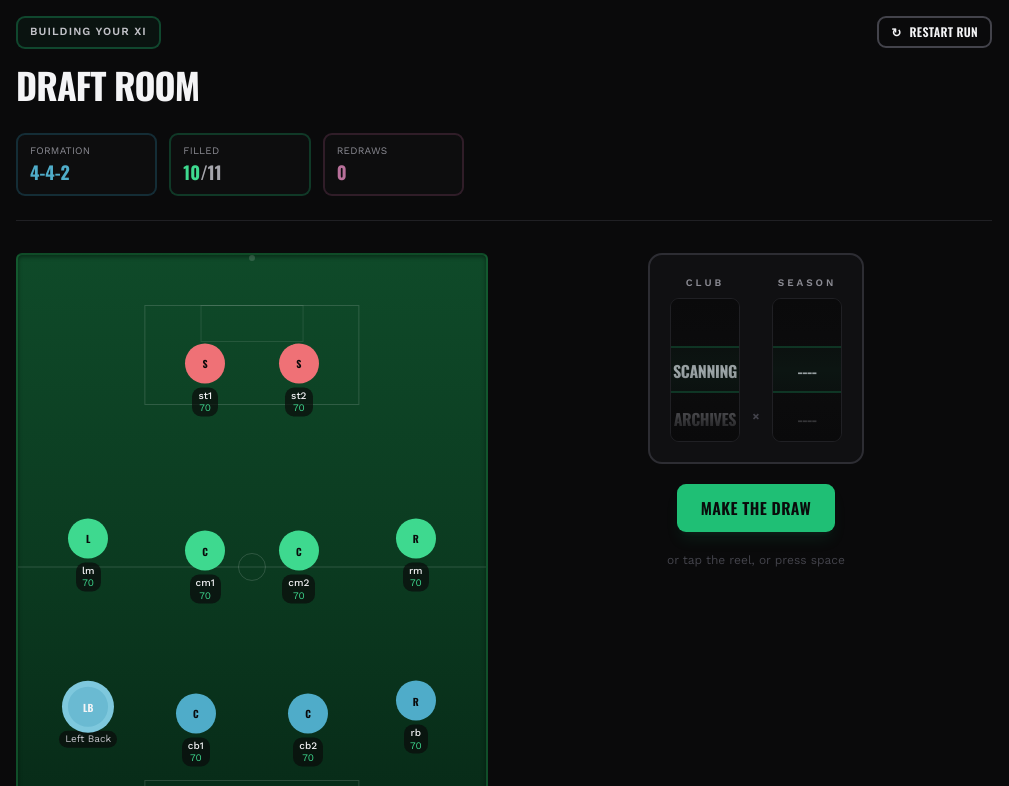
it: DraftPage — auto-reroll avoids the no-eligible-player deadlock › silently redraws past a club with zero eligible players for the last open slot, without spending a redraw
Click the button "Make the Draw". click: (756, 508)
box: [677,484,835,532]
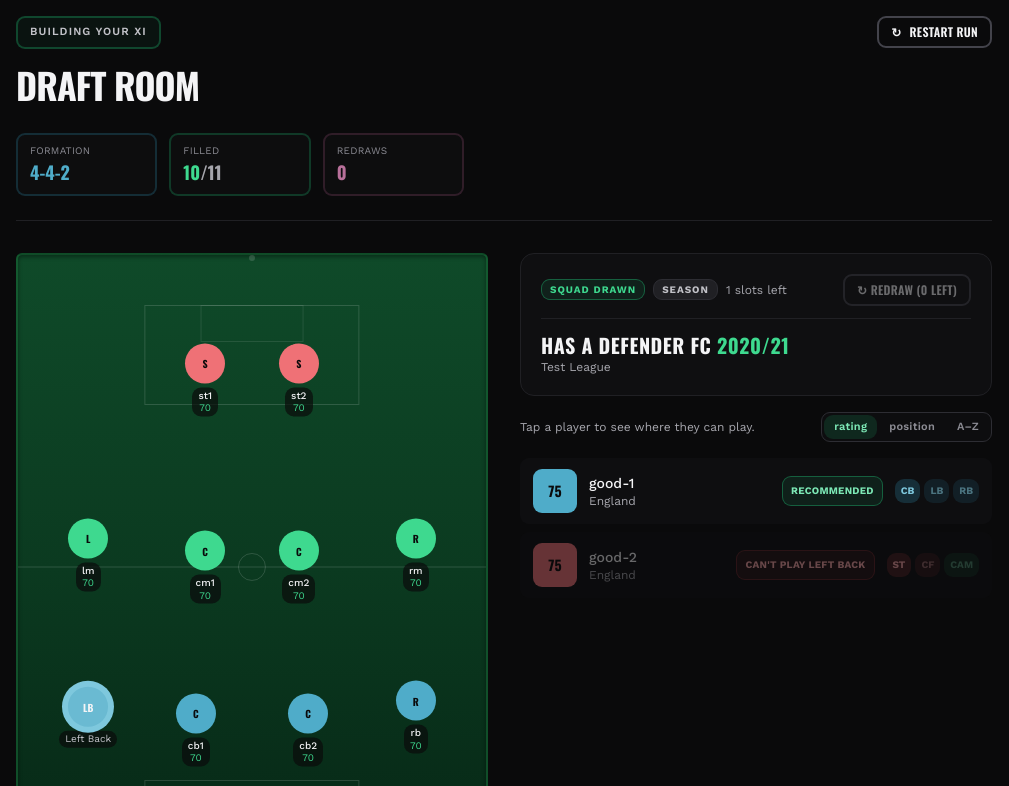
Expected: the text "good-1" is shown, [589,475,634,491]
